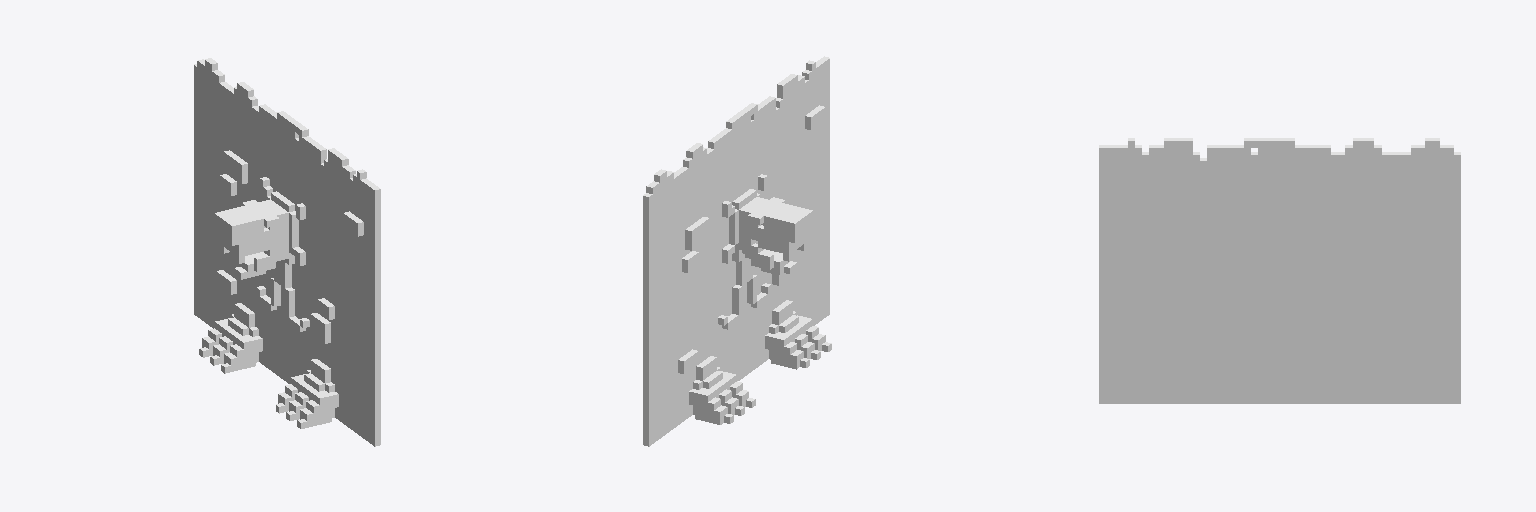
File: vox-53-Wall_Dragon.obj
3 renders of one model, left to right at view 1: azimuth 30°, elevation 25°; view 2: azimuth 150°, elevation 25°; view 3: azimuth 270°, elevation 25°, orthographic.
Visible parts, largest first — view 1: Wall_Dragon; view 2: Wall_Dragon; view 3: Wall_Dragon.
Part boxes in pixels (bbox=[...]): Wall_Dragon: bbox=[194, 58, 380, 446]; Wall_Dragon: bbox=[643, 56, 831, 446]; Wall_Dragon: bbox=[1099, 138, 1460, 403].
Size of the model in its own units: 1.1 by 4 by 5.